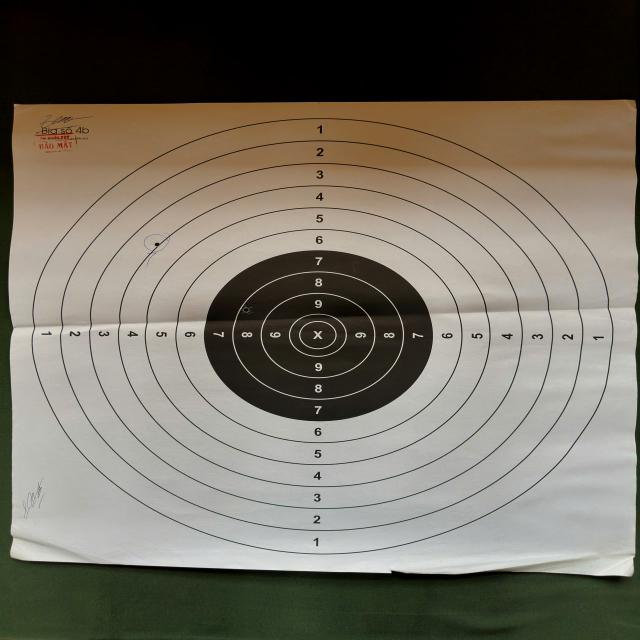bullet: (242, 306, 251, 313), (154, 242, 161, 248)
target: (9, 100, 637, 576)
